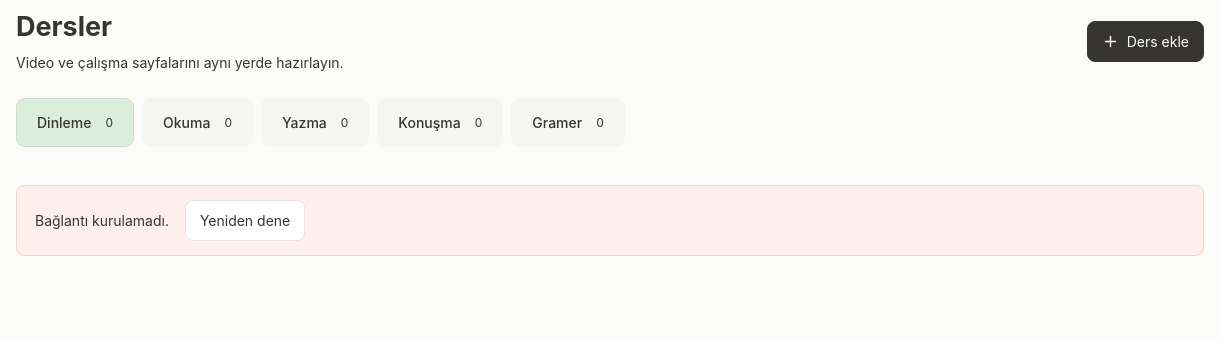
Test: lesson catalog › shows a retry on loading errors, not a false empty catalog
Expected: the message "Bağlantı kurulamadı. Yeniden dene" is shown, [16,185,1204,256]
Click the button "Yeniden dene".
click(245, 221)  # box [185,200,305,241]
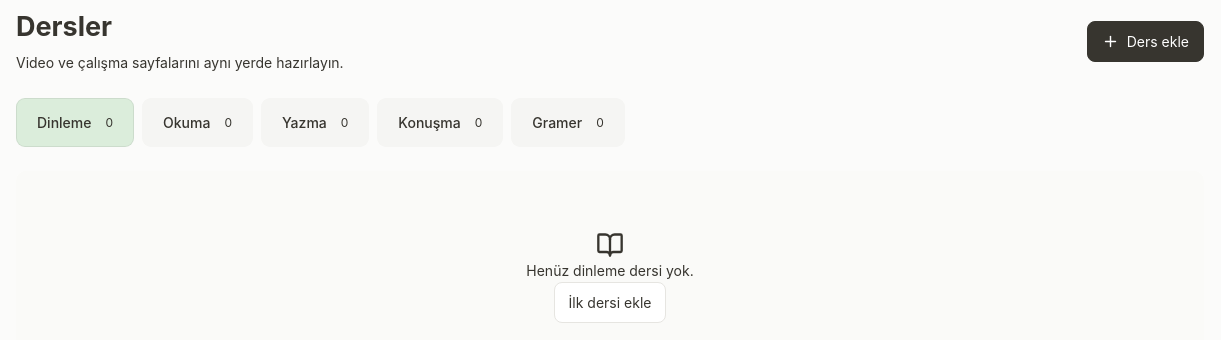
Result: the text "Henüz dinleme dersi yok." is shown at [526,262,694,279]
